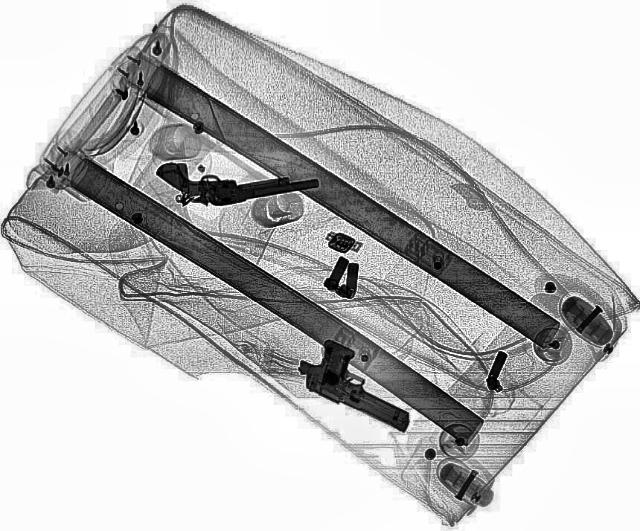Gun: (284, 334, 438, 434), (152, 138, 320, 214)
